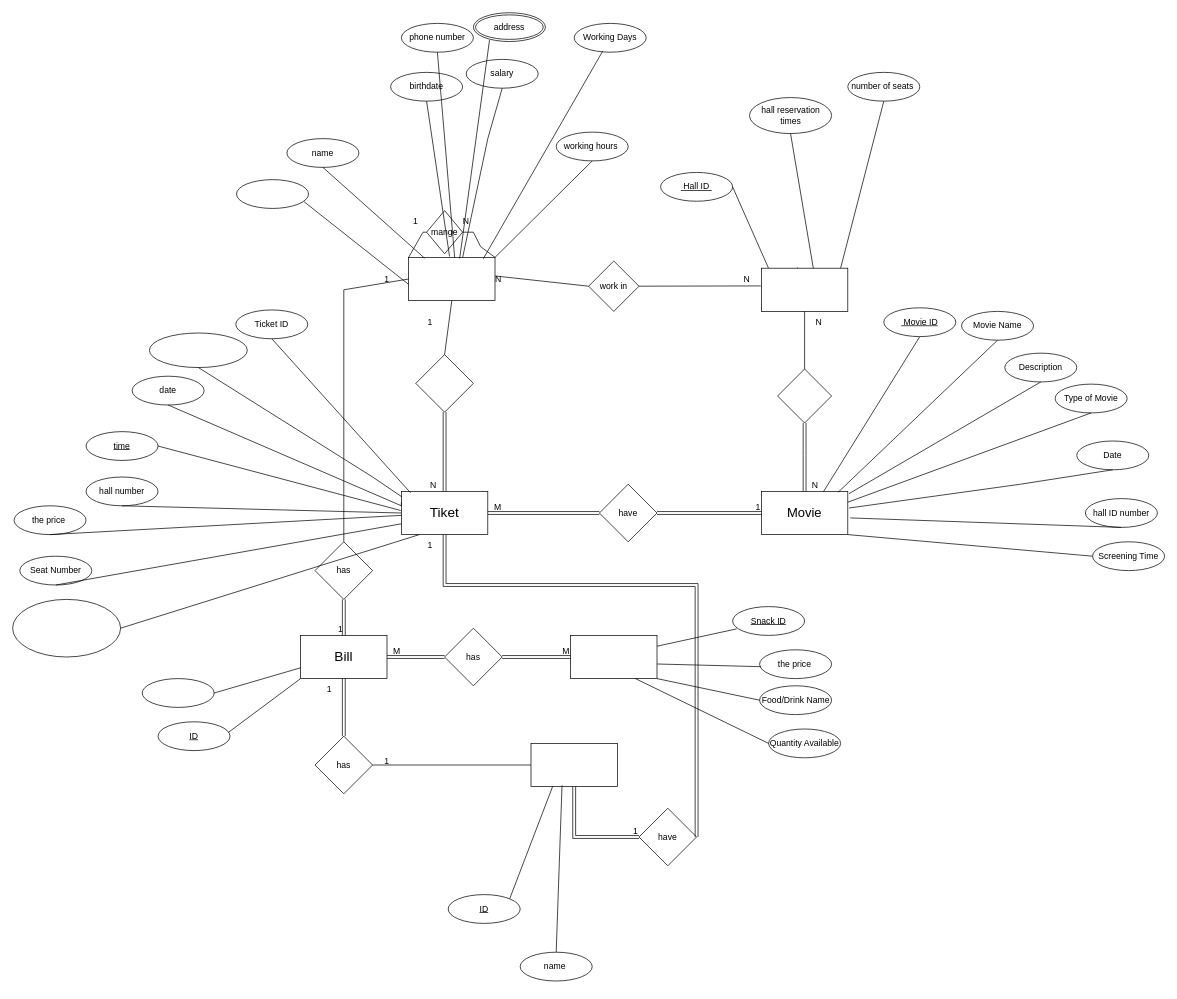
Some shapes in this 1177 by 999 pixel diagram are drawn without their labels. Each missing label, with the centre of its shape:
"Custamer" belongs at (x=573, y=765).
"employee" belongs at (x=451, y=279).
"Hall" belongs at (x=804, y=289).
"ID number" belongs at (x=272, y=193).
"name of the movie" belongs at (x=198, y=350).
"provide" belongs at (x=444, y=383).
"remaining num" belongs at (x=66, y=628).
"show in" belongs at (x=804, y=395).
"Snack" belongs at (x=613, y=657).
"total price" belongs at (x=177, y=692).
